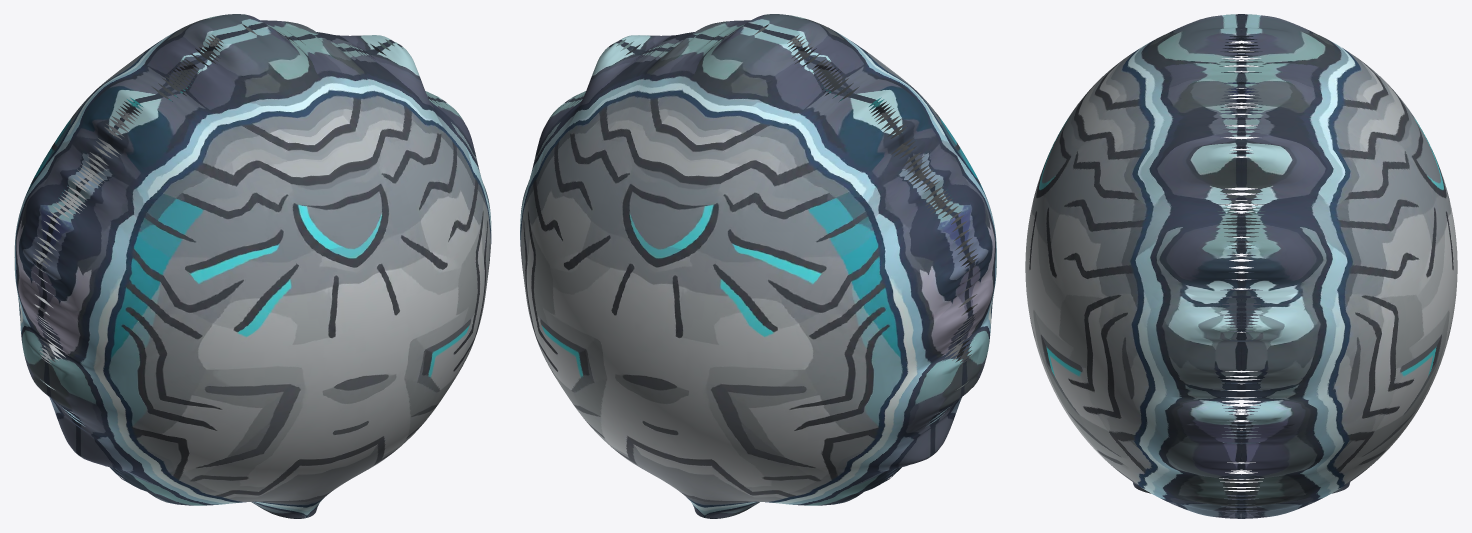
File: carved_stone_gate.glb
3 renders of one model, left to right at view 1: azimuth 30°, elevation 25°; view 2: azimuth 150°, elevation 25°; view 3: azimuth 270°, elevation 25°, orthographic.
Parts seen in each view (by area): view 1: carved_stone_gate; view 2: carved_stone_gate; view 3: carved_stone_gate.
Boxes of the visible parts, x1,y1,x2,y2 form: carved_stone_gate: (14,14,491,518); carved_stone_gate: (520,14,996,518); carved_stone_gate: (1025,14,1457,518).
Bounding box in the file's own units: 0.9886 × 0.9943 × 0.8548.
Materials: 1 (1 with a texture image).
